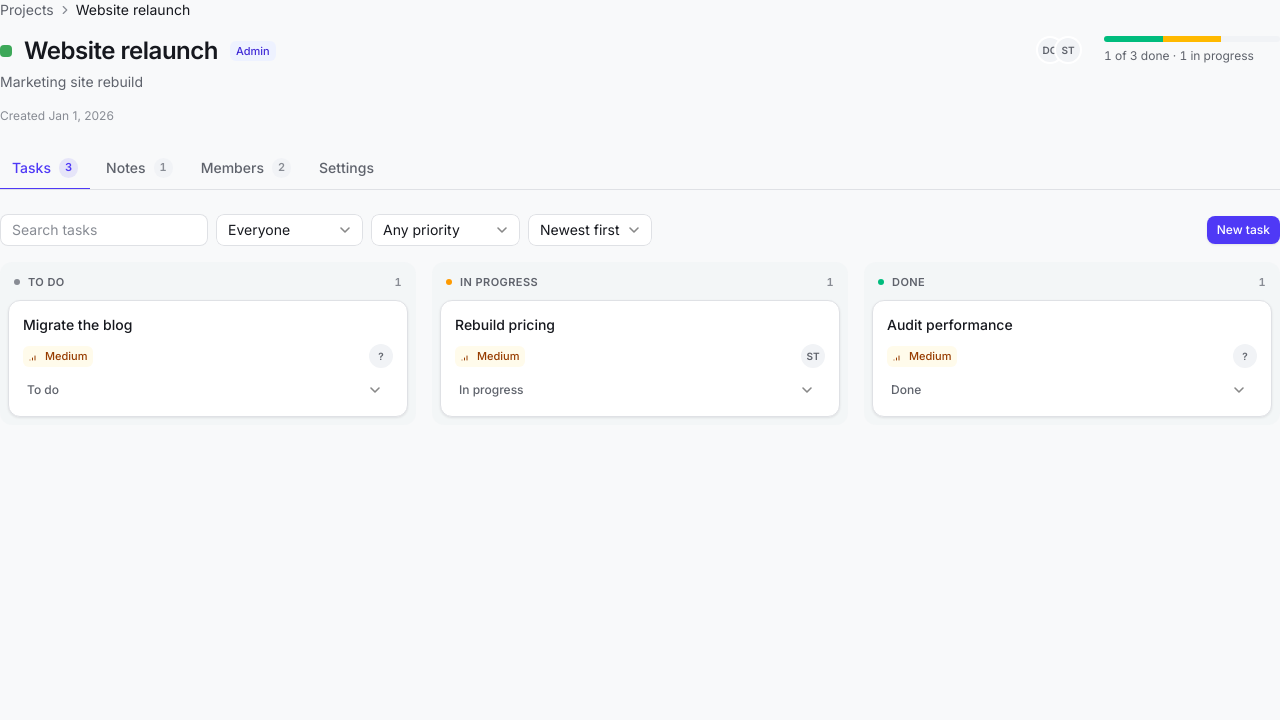
Test case: ProjectDetail › opens a task and lists its subtasks
This screenshot has width=1280, height=720.
Click the button "Migrate the blog".
click(78, 324)  # box x1=23 y1=315 x2=393 y2=334
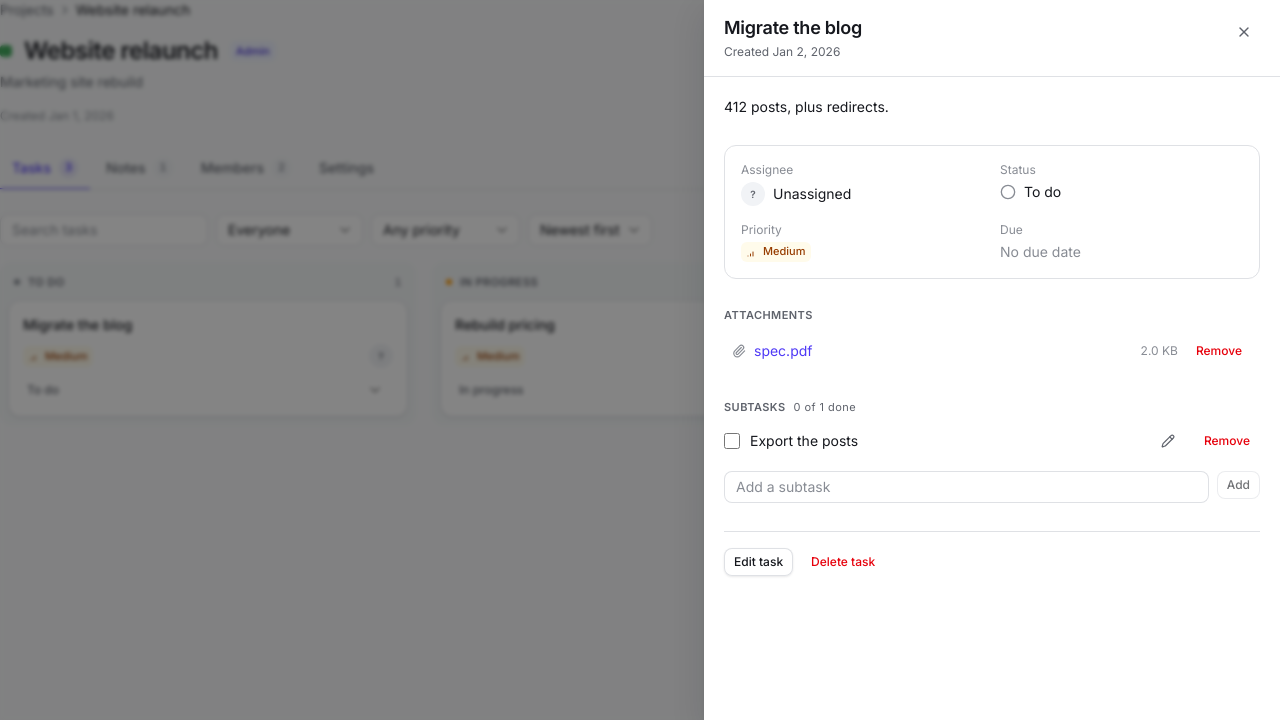
Now the text "412 posts, plus redirects." is shown, box x1=724 y1=98 x2=889 y2=115
Now the checkbox named "Export the posts" is not checked, box x1=724 y1=433 x2=740 y2=449
Now the text "0 of 1 done" is shown, box x1=794 y1=399 x2=856 y2=415
